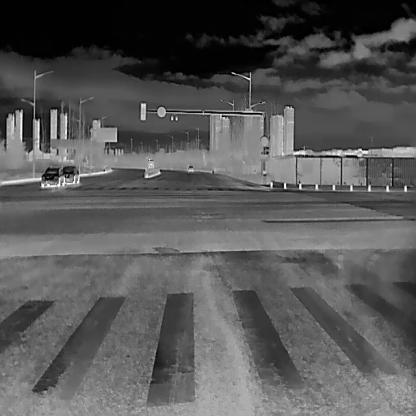car: (41, 164, 64, 186), (61, 165, 79, 184), (186, 164, 193, 172)
truck: (147, 157, 154, 168)
